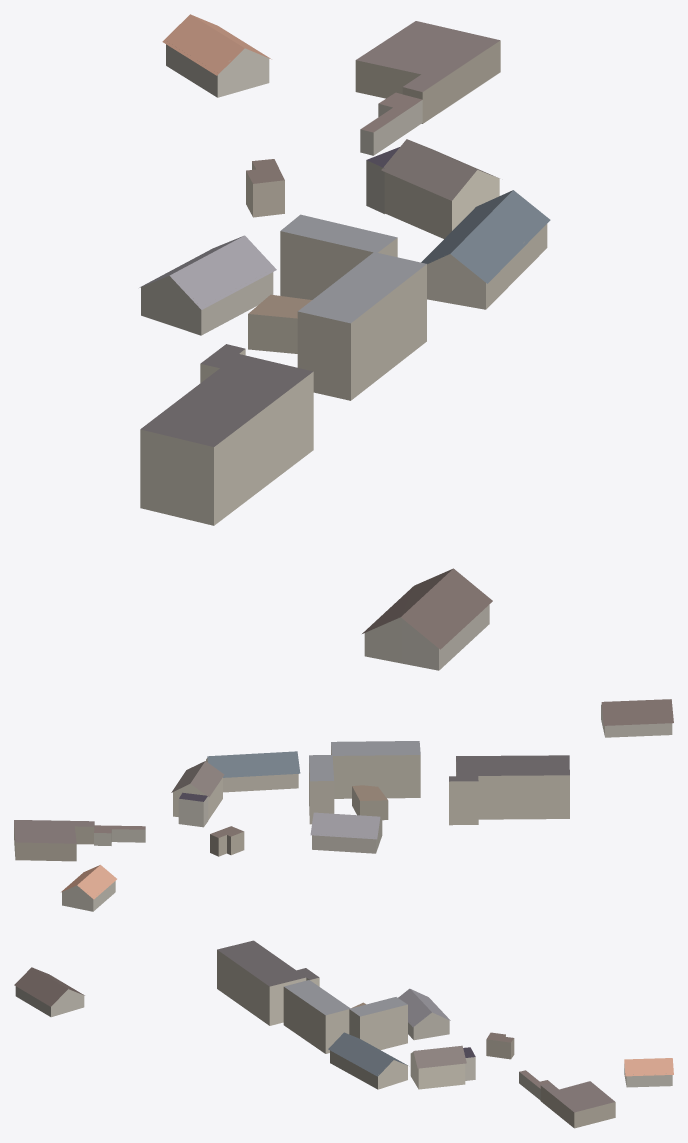
3 renders of one model, top to bottom at view 1: azimuth 30°, elevation 25°; view 2: azimuth 150°, elevation 25°; view 3: azimuth 270°, elevation 25°, orthographic. The views are drawn at different scales.
Visible parts, largest first — view 1: tuile; view 2: tuile; view 3: tuile.
Part boxes in pixels (box(x1,y1,x2,y2)): tuile: box(139, 14, 550, 670); tuile: box(14, 699, 673, 911); tuile: box(14, 940, 673, 1128).
Bounding box in the file's own units: 106 × 15.98 × 178.
